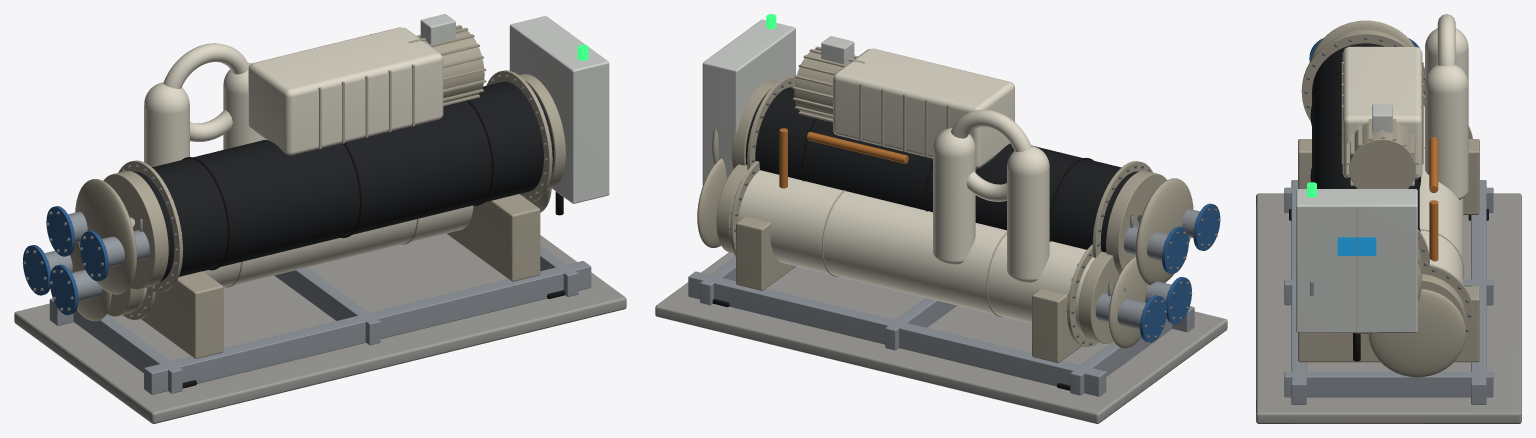
Rendered from chiller.glb.
The picture shows the model from 3 angles, left to right: view 1: azimuth 30°, elevation 25°; view 2: azimuth 150°, elevation 25°; view 3: azimuth 270°, elevation 25°; orthographic projection. The views are drawn at different scales.
Visible parts, largest first — view 1: evap, pad, comp, skid, waterboxes, panel, supports, refrigerant, nozzles, cond; view 2: pad, cond, waterboxes, comp, evap, refrigerant, skid, panel, nozzles, supports; view 3: pad, panel, comp, waterboxes, skid, refrigerant, supports, evap, cond, screen.
Boxes of the visible parts, x1,y1,x2,y2 form: evap: (134,81,553,281); pad: (14,233,626,423); comp: (248,14,486,155); skid: (49,245,591,394); waterboxes: (70,70,565,321); panel: (509,16,609,215); supports: (141,194,564,388); refrigerant: (144,43,264,167); nozzles: (22,206,149,315); cond: (138,205,473,307); pad: (655,252,1227,423); cond: (738,170,1094,335); waterboxes: (697,76,1193,348); comp: (792,36,1014,168); evap: (745,87,1138,252); refrigerant: (779,109,1049,282); skid: (688,257,1194,396); panel: (702,19,795,185); nozzles: (1095,203,1220,342); supports: (712,216,1081,390); pad: (1256,193,1521,423); panel: (1296,189,1417,361); comp: (1341,46,1423,188); waterboxes: (1301,20,1473,377); skid: (1284,180,1493,404); refrigerant: (1425,14,1468,261); supports: (1289,139,1488,362); evap: (1310,43,1421,231); cond: (1419,106,1464,283); screen: (1337,237,1376,255).
Size of the model in its own units: 4.32 by 2.22 by 2.07.
